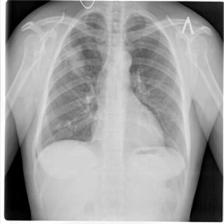tuberculosis: (31, 6, 190, 188)
